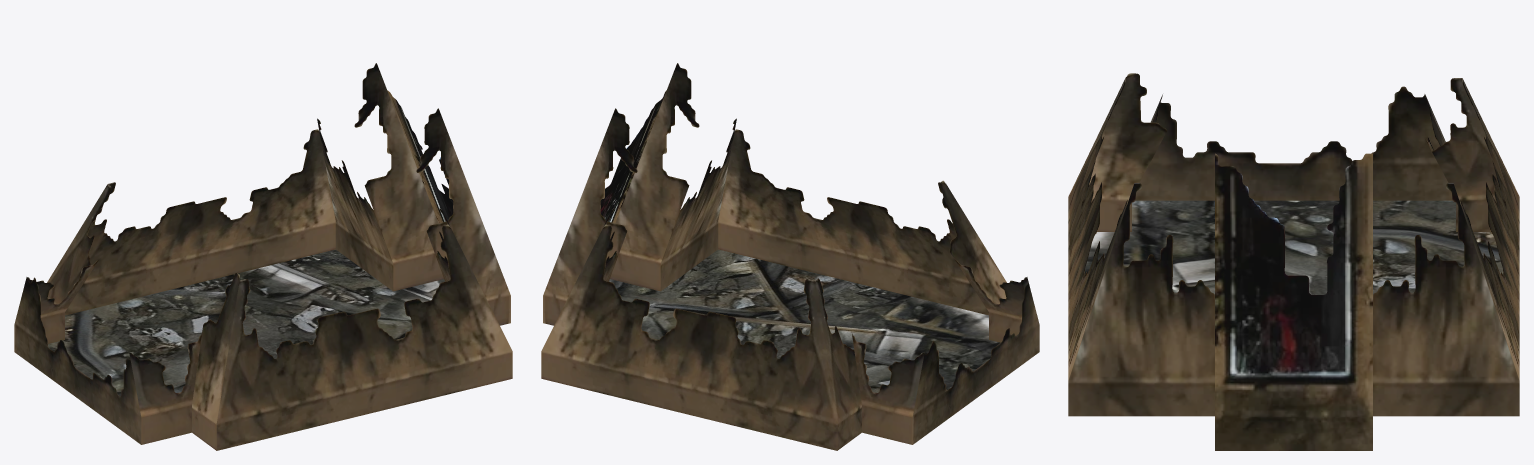
The model's file is hpg_office_dam_hdtex.glb.
The picture shows the model from 3 angles, left to right: view 1: azimuth 30°, elevation 25°; view 2: azimuth 150°, elevation 25°; view 3: azimuth 270°, elevation 25°; orthographic projection. The views are drawn at different scales.
Parts seen in each view (by area): view 1: HPG_OfficeDam; view 2: HPG_OfficeDam; view 3: HPG_OfficeDam.
Part boxes in pixels (x1,y1,x2,y2): HPG_OfficeDam: (14, 63, 512, 450); HPG_OfficeDam: (541, 63, 1039, 450); HPG_OfficeDam: (1068, 73, 1519, 450).
Size of the model in its own units: 23.44 by 15.94 by 17.85.
3 materials, 3 textured.
